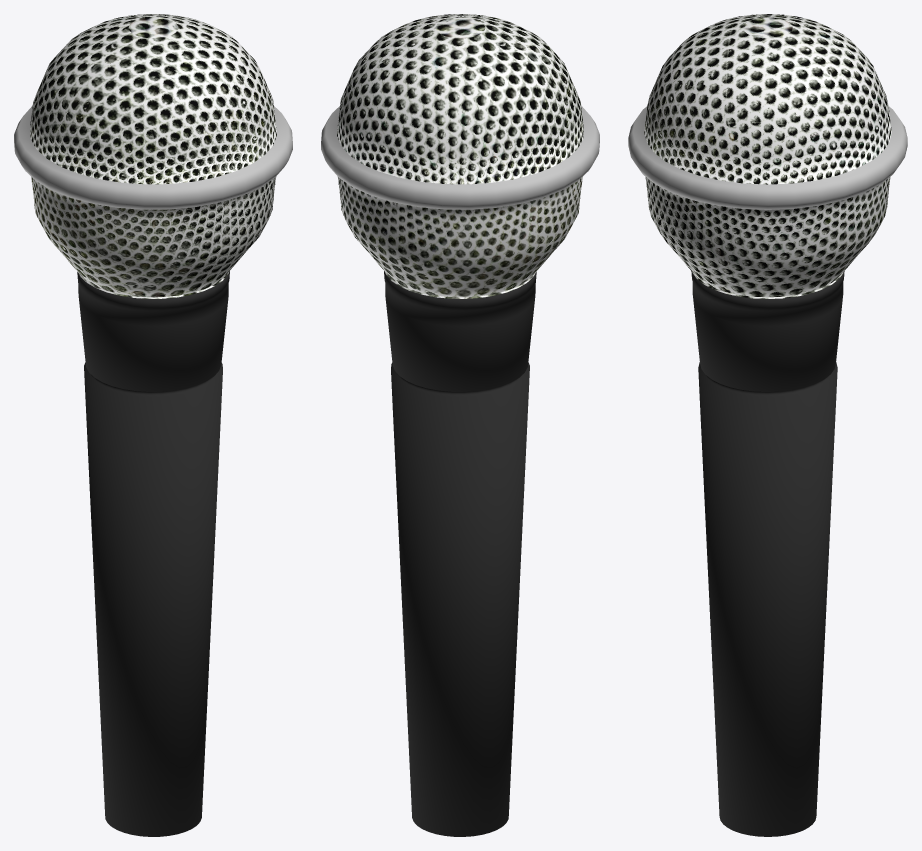
The model's file is microphone.glb.
3 views of the same model, side by side, from view 1: azimuth 30°, elevation 25°; view 2: azimuth 150°, elevation 25°; view 3: azimuth 270°, elevation 25° (orthographic).
Visible parts, largest first — view 1: Cylinder; view 2: Cylinder; view 3: Cylinder.
Part boxes in pixels (left/top/right/bottom): Cylinder: left=14, top=14, right=292, bottom=836; Cylinder: left=321, top=14, right=599, bottom=836; Cylinder: left=628, top=14, right=907, bottom=836.
Bounding box in the file's own units: 0.0986 × 0.3068 × 0.0986.
Materials: 1 (1 with a texture image).
